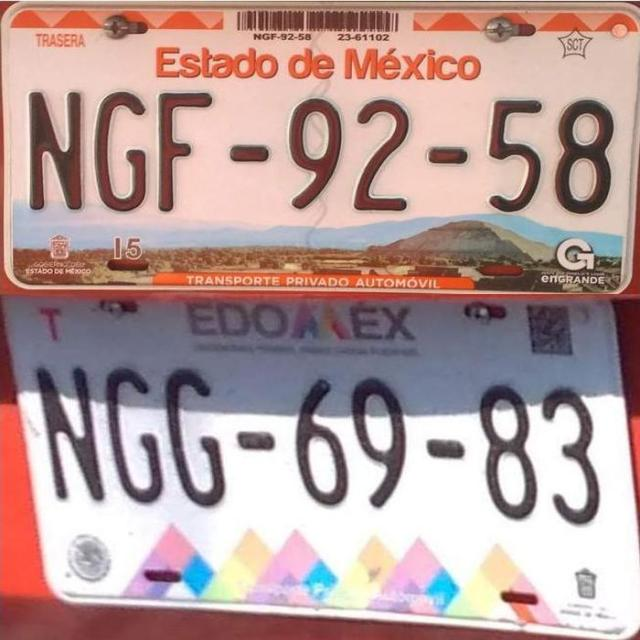placa: (25, 348, 621, 537), (8, 74, 631, 222)
